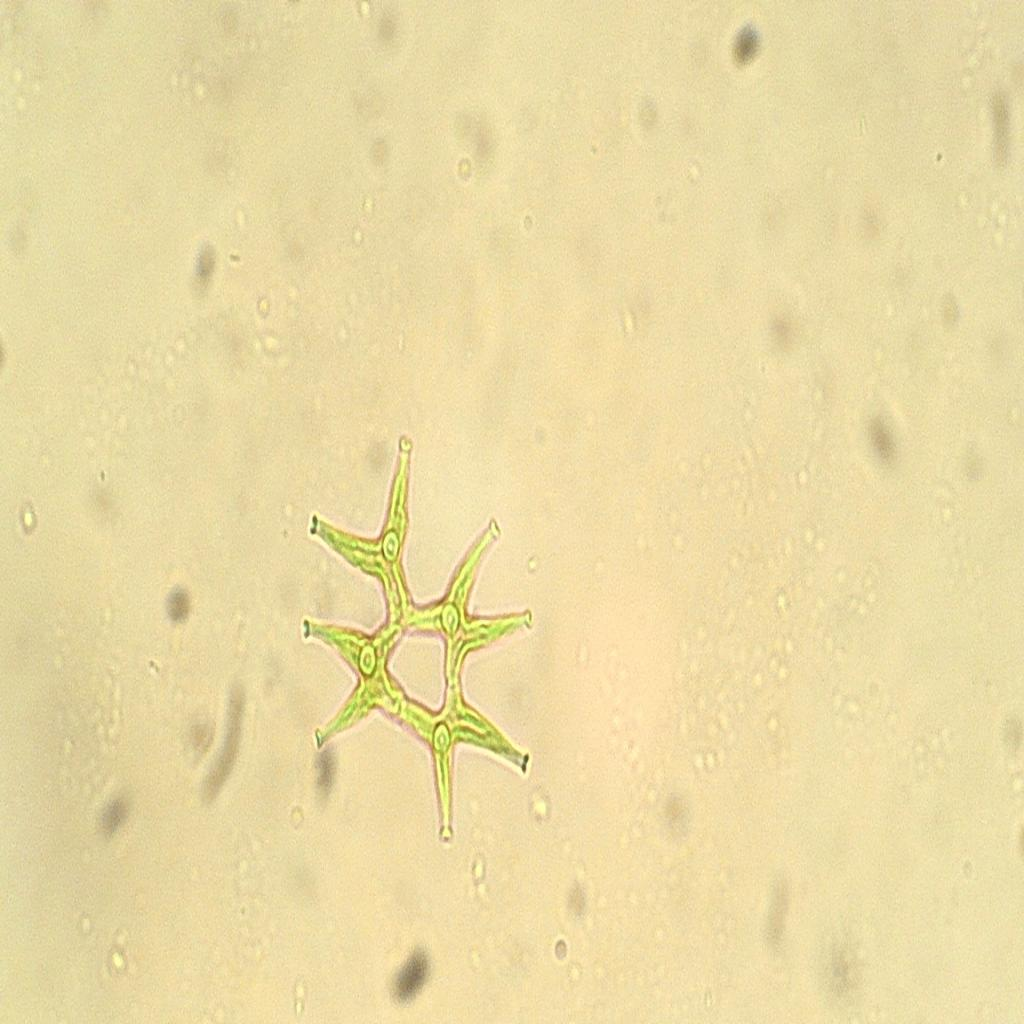Pediastrum_75FI: (274, 417, 563, 855)
